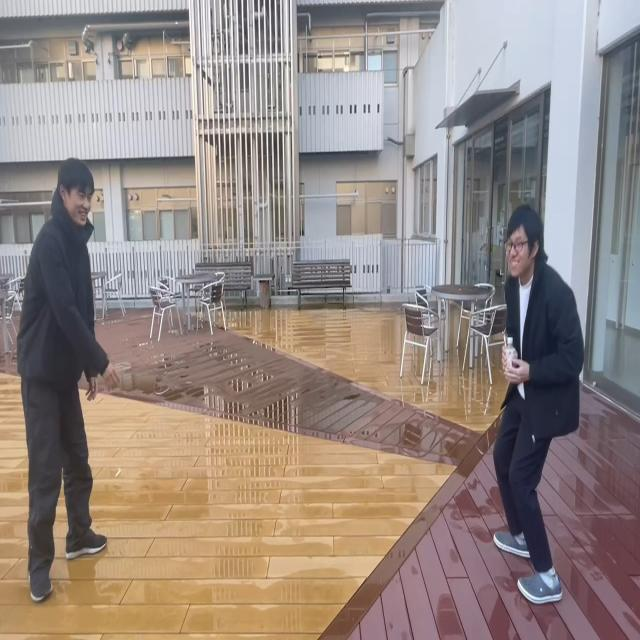bottle: (505, 336, 516, 371)
